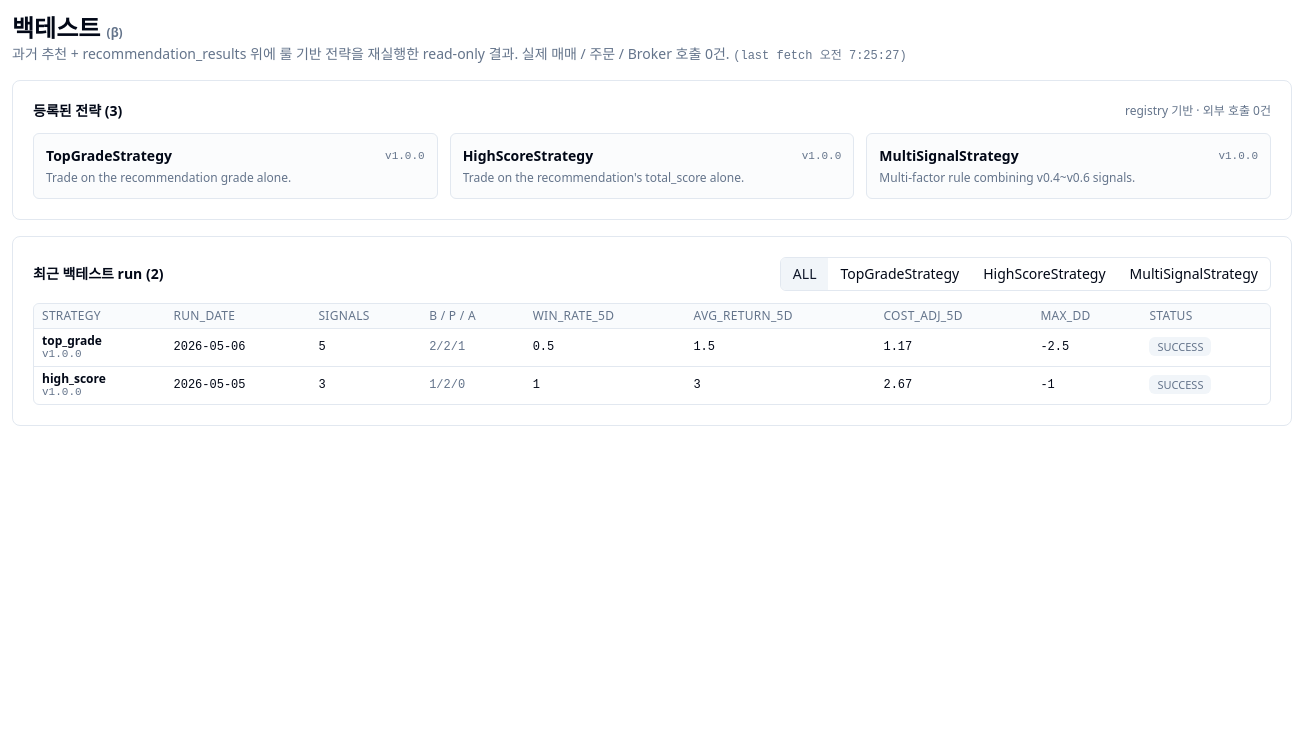
Test: BacktestPage › shows detail error state when run detail returns 500
This screenshot has width=1292, height=732.
Step 1. Click the row with test id "backtest-run-row-42" → (652, 347), box left=34, top=328, right=1270, bottom=366
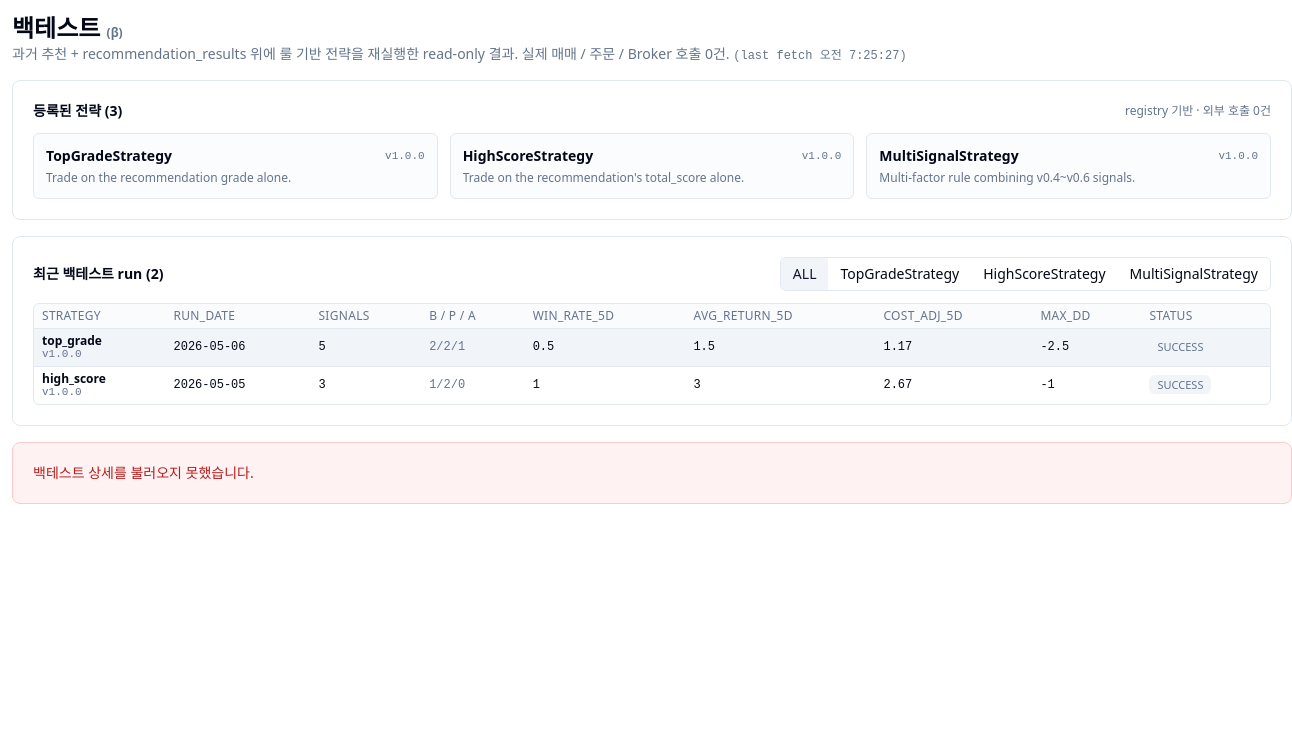
Expected: the text "백테스트 상세를 불러오지 못했습니다." is shown, left=12, top=442, right=1291, bottom=504
